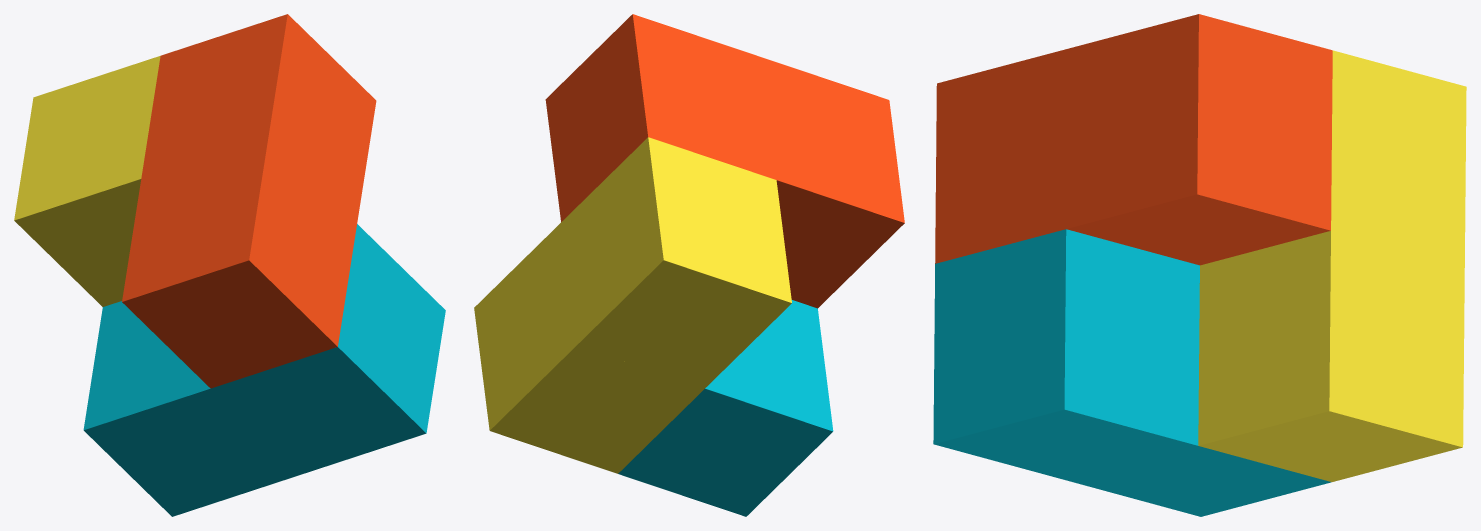
Rendered from group595062873_lev3.006.glb.
The picture shows the model from 3 angles, left to right: view 1: azimuth 30°, elevation 25°; view 2: azimuth 150°, elevation 25°; view 3: azimuth 270°, elevation 25°; orthographic projection. The views are drawn at different scales.
Parts seen in each view (by area): view 1: group595062873_lev3.006; view 2: group595062873_lev3.006; view 3: group595062873_lev3.006.
Boxes of the visible parts, <box> form: group595062873_lev3.006: <box>14,14,445,516</box>; group595062873_lev3.006: <box>474,14,904,516</box>; group595062873_lev3.006: <box>933,14,1466,516</box>.
Size of the model in its own units: 2.72 by 3.81 by 3.23.
